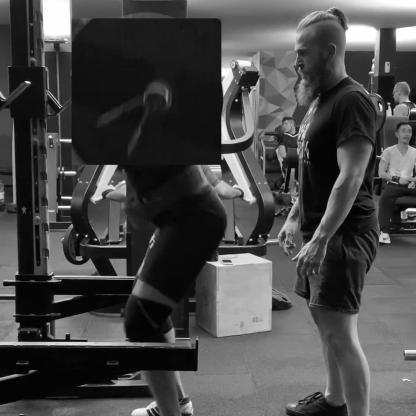barbell: (73, 19, 223, 167)
